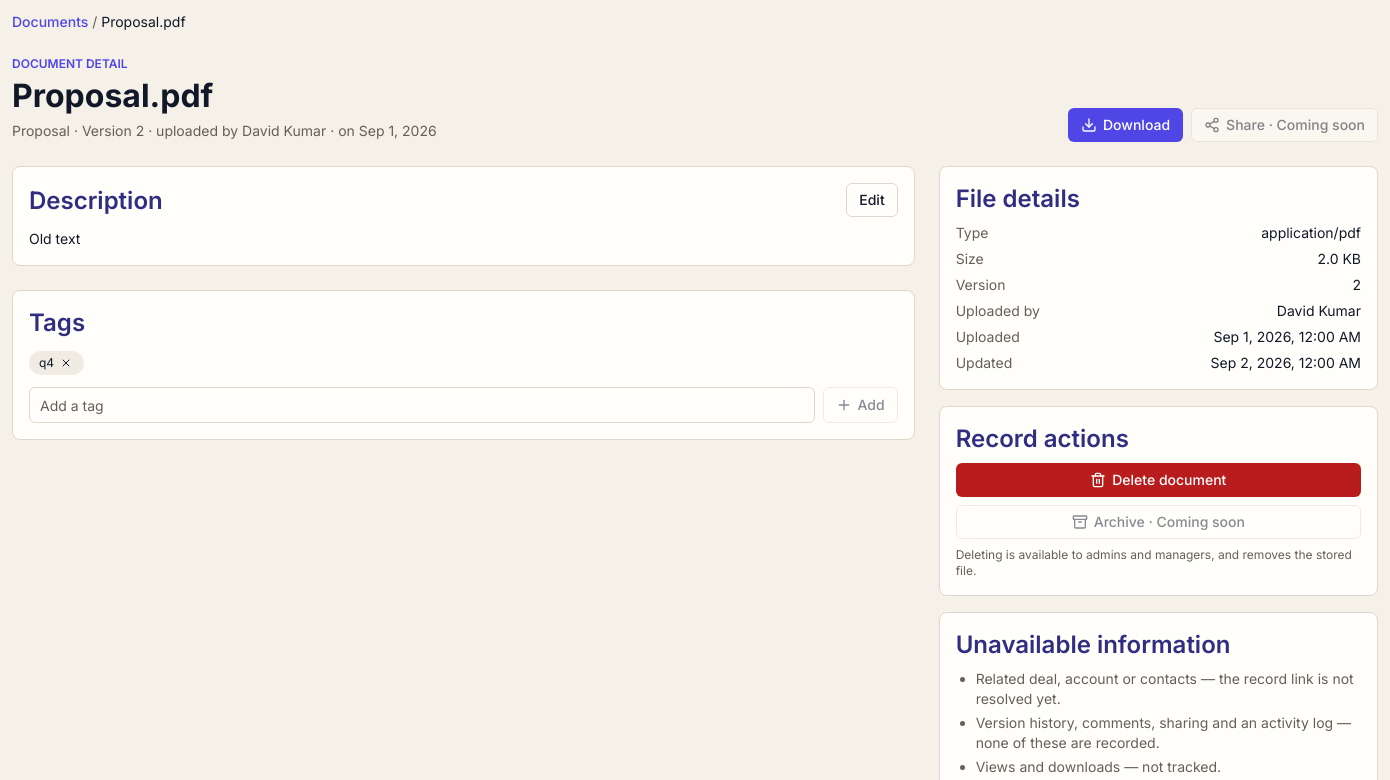
Test case: Document detail — real saves, nothing local-only › a refused description save keeps the editor and says it was not saved
Step 1. Click the button "Edit" → [872, 200], box [846,183,898,217]
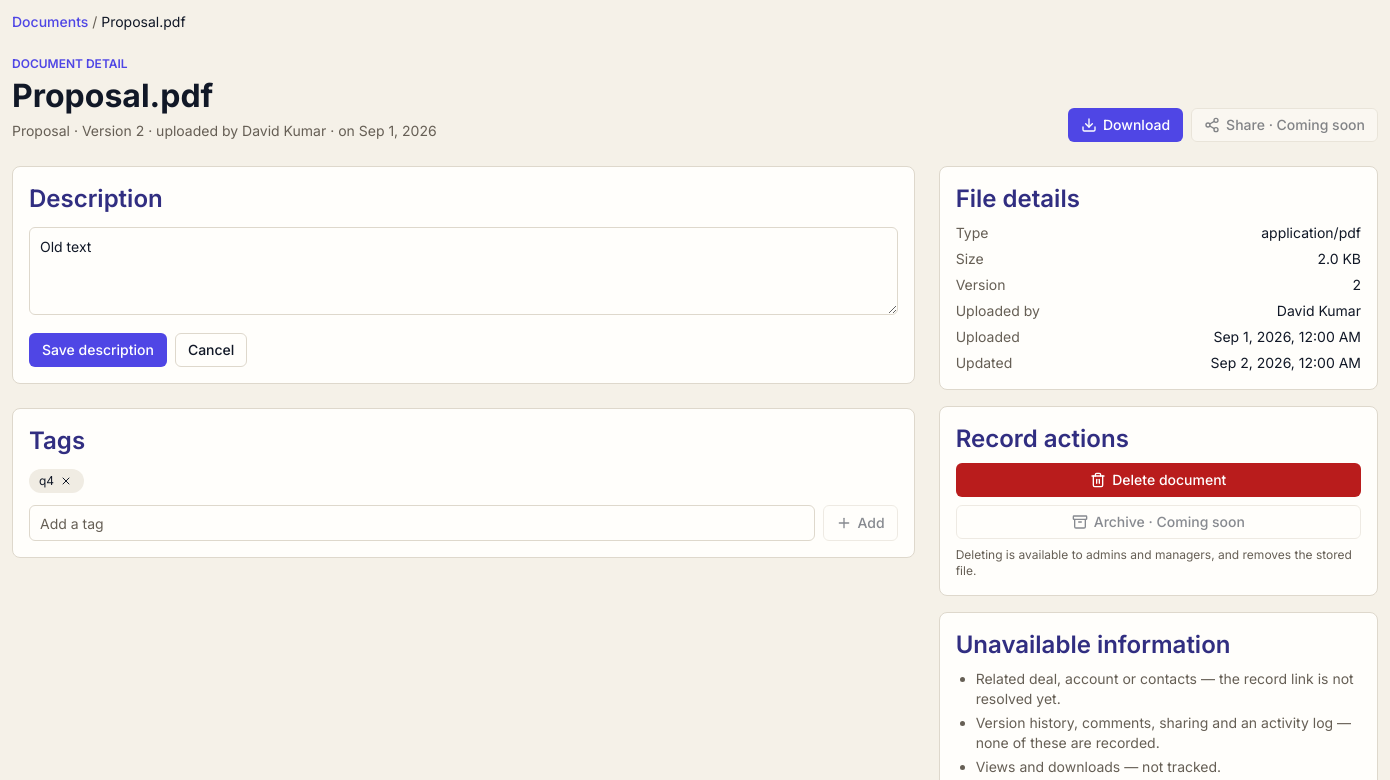
Step 2. Type " more" into the text box named "Description" → [463, 271], box [29,227,898,315]
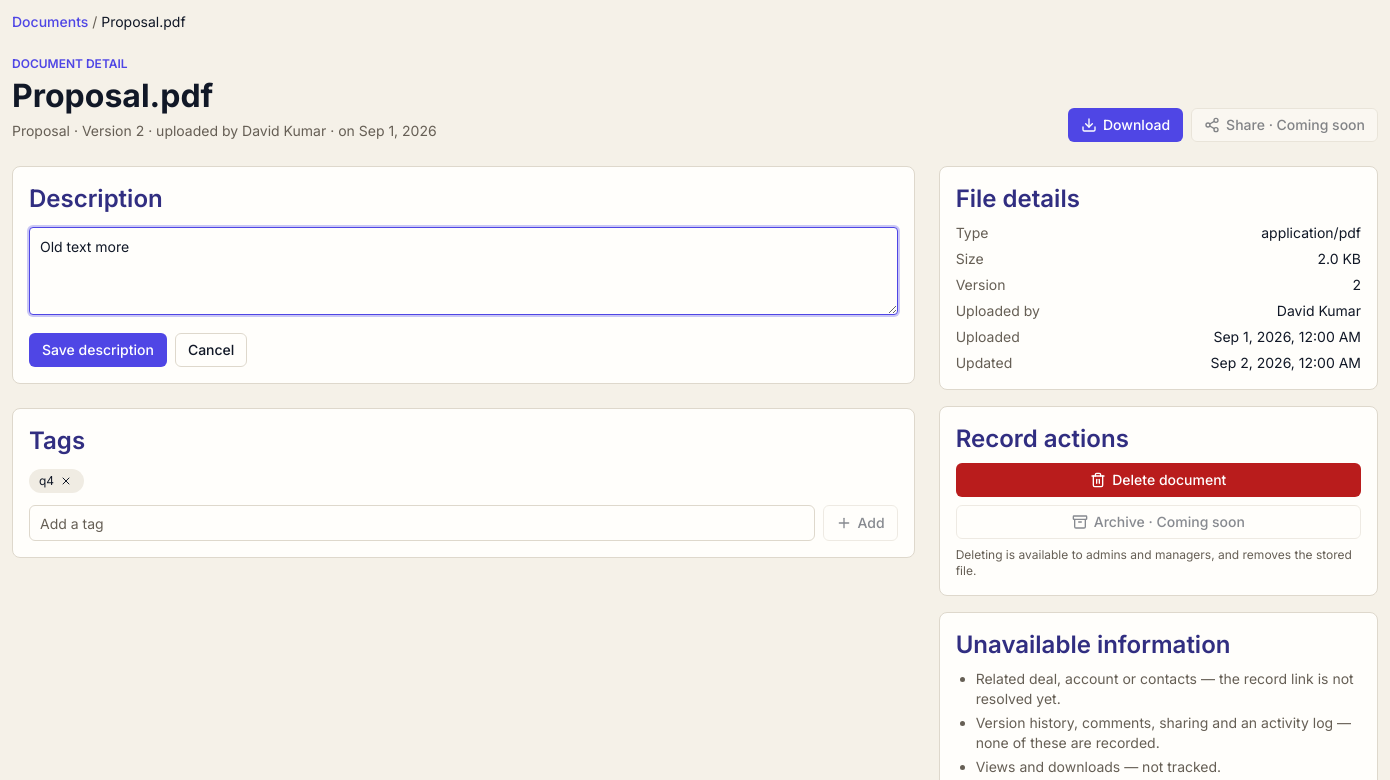
Step 3. Click the button "Save description" → [98, 350], box [29,333,167,367]
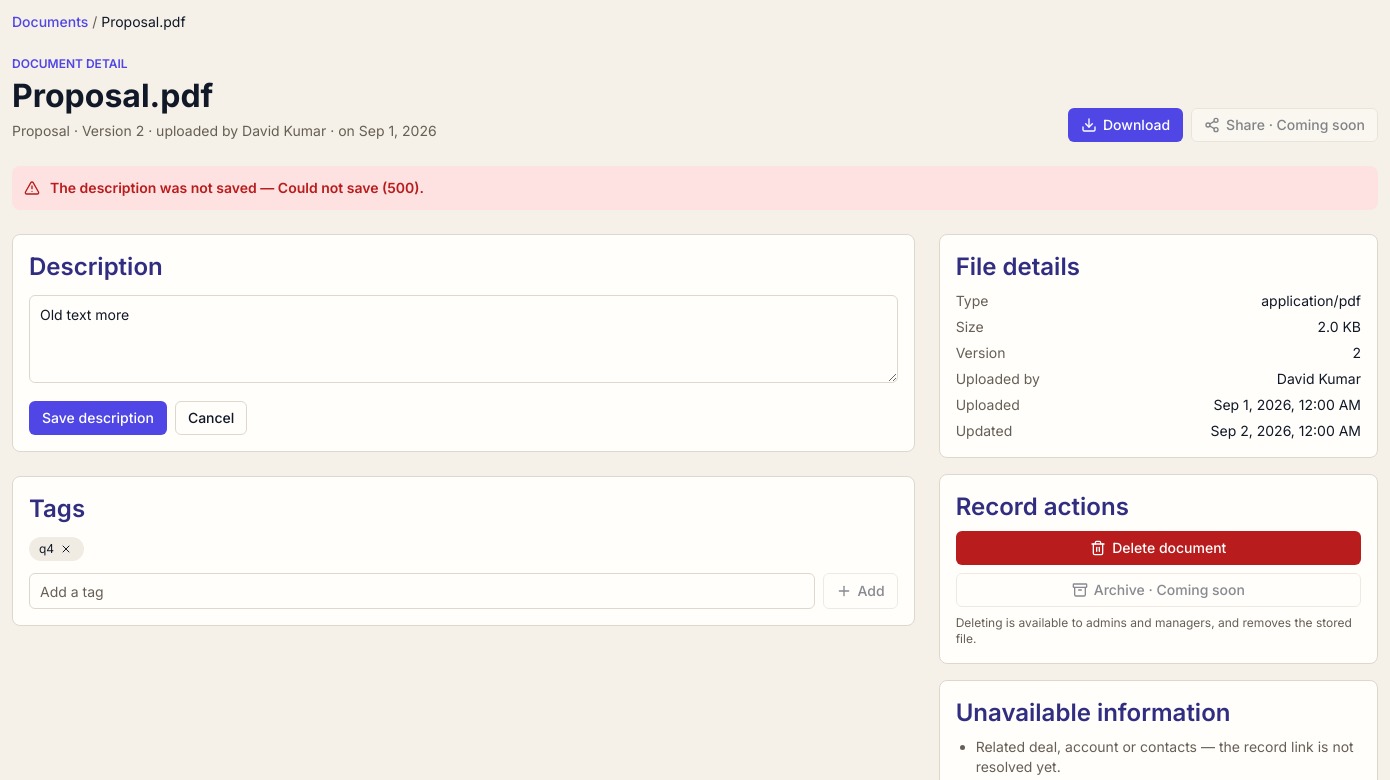
expect the text box named "Description" holds "Old text more": met, box [29,295,898,383]
expect the text "The description was not saved — Could not save (500)." is shown: met, box [50,179,424,196]
